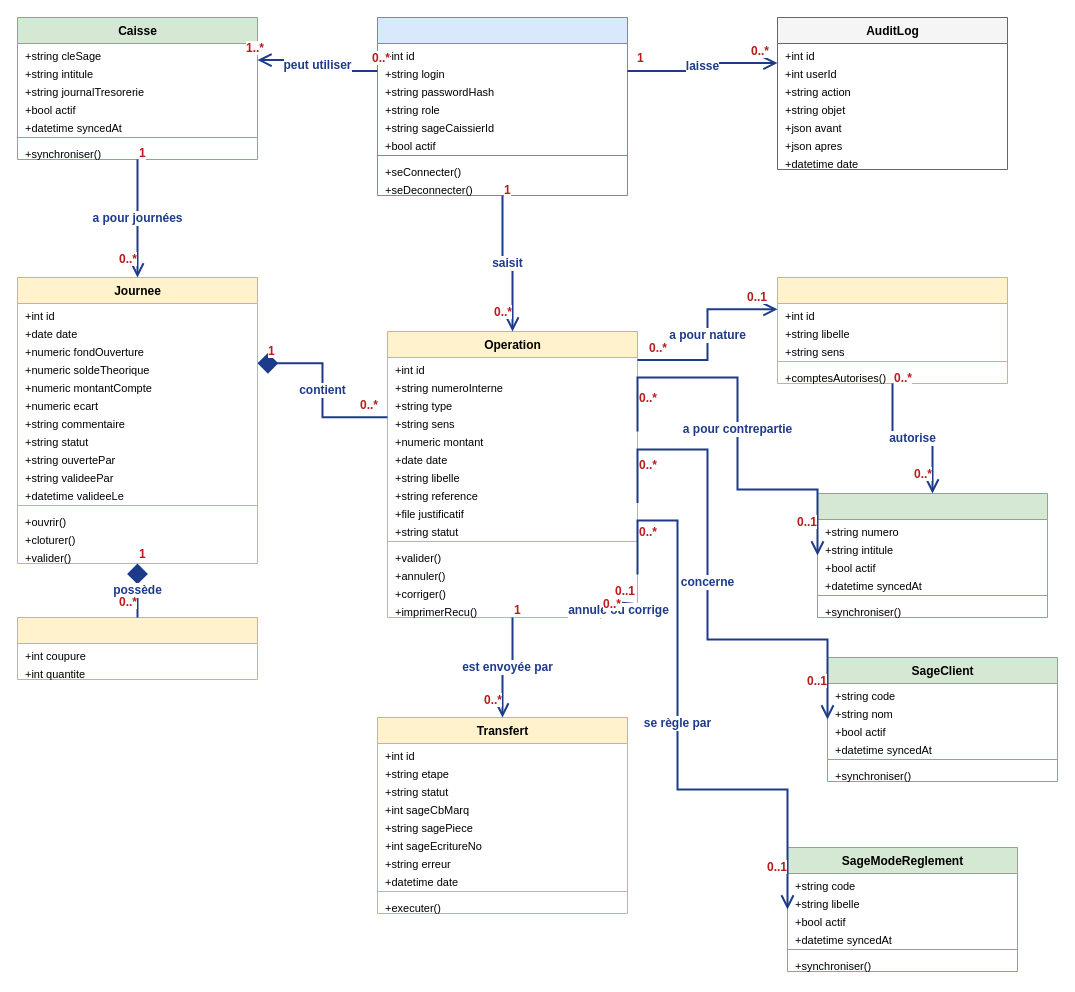
This 1075x992 diagram has some shape labels left out. Here are the shapes that lost their labels. From the top down, the box of each, then its label:
(376, 16, 628, 196): Utilisateur
(776, 276, 1008, 384): NatureMouvement
(816, 492, 1048, 618): SageCompte
(16, 616, 258, 680): Comptage
